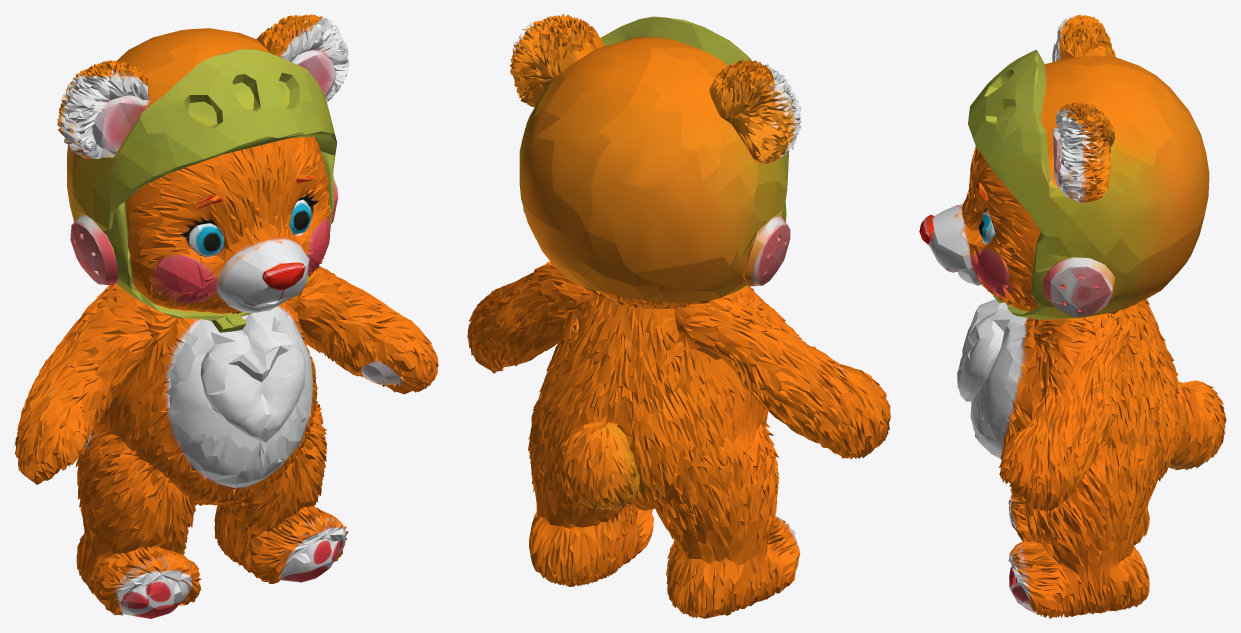
File: meshy-1795721946507.glb
3 views of the same model, side by side, from view 1: azimuth 30°, elevation 25°; view 2: azimuth 150°, elevation 25°; view 3: azimuth 270°, elevation 25° (orthographic). The views are drawn at different scales.
Size of the model in its own units: 1.51 by 1.9 by 1.03.
1 material, 1 textured.
